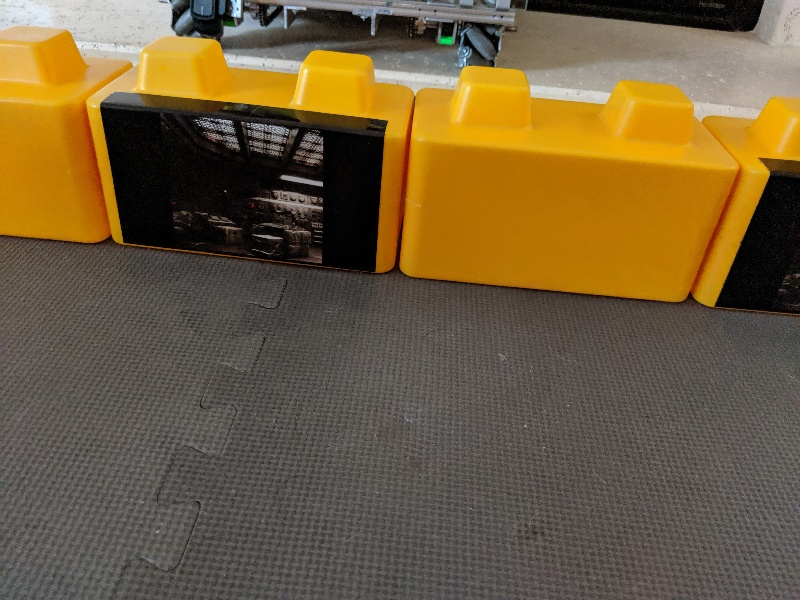Skystone: (87, 79, 395, 282)
